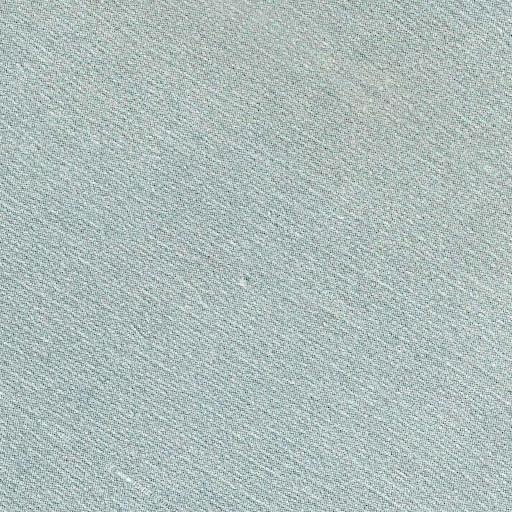knot: (229, 266, 262, 296)
